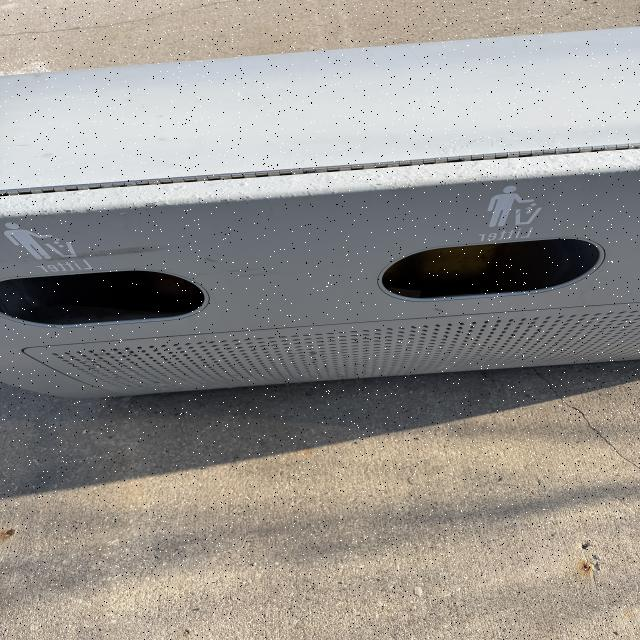Dustbin: (0, 26, 640, 402)
